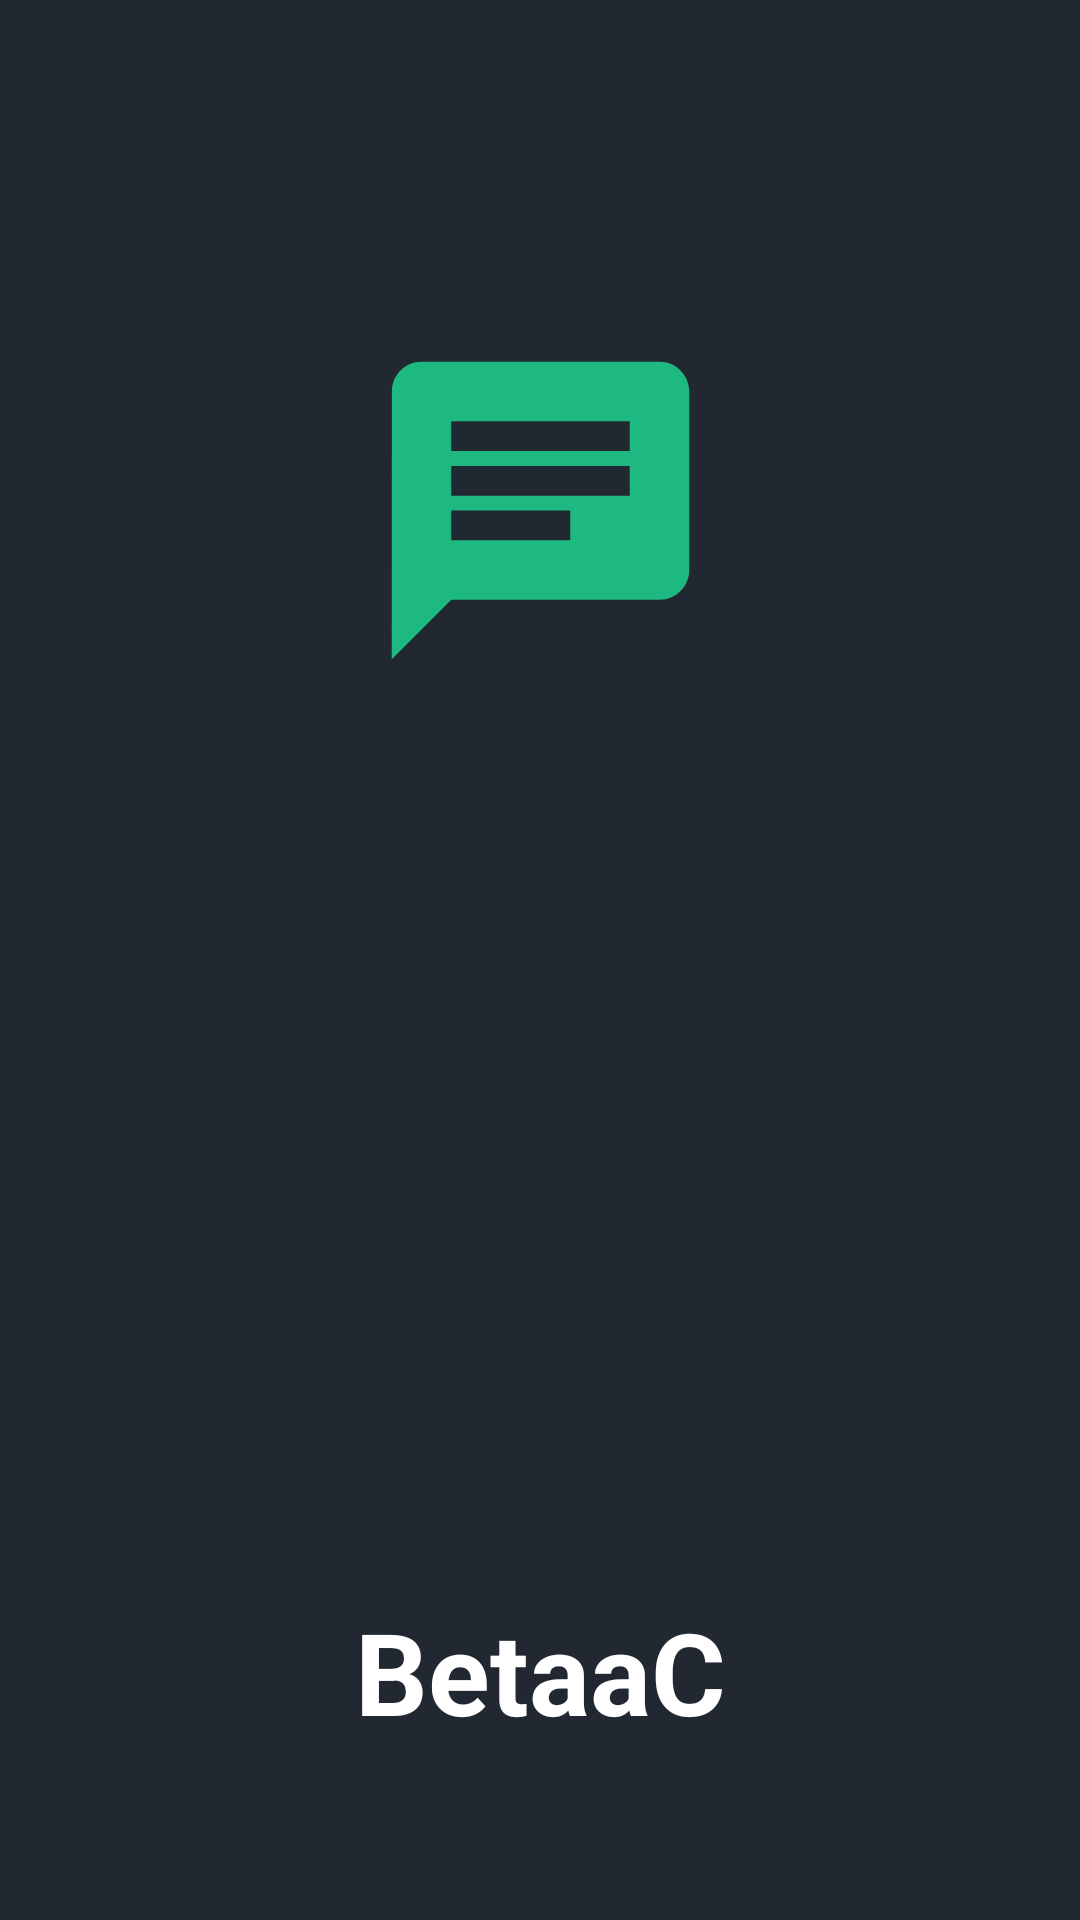

Icon bounding boxes for this 1080 × 1920 phone screenshot, format detection(x1, y1, x2, y2):
chat: detection(391, 361, 690, 659)
